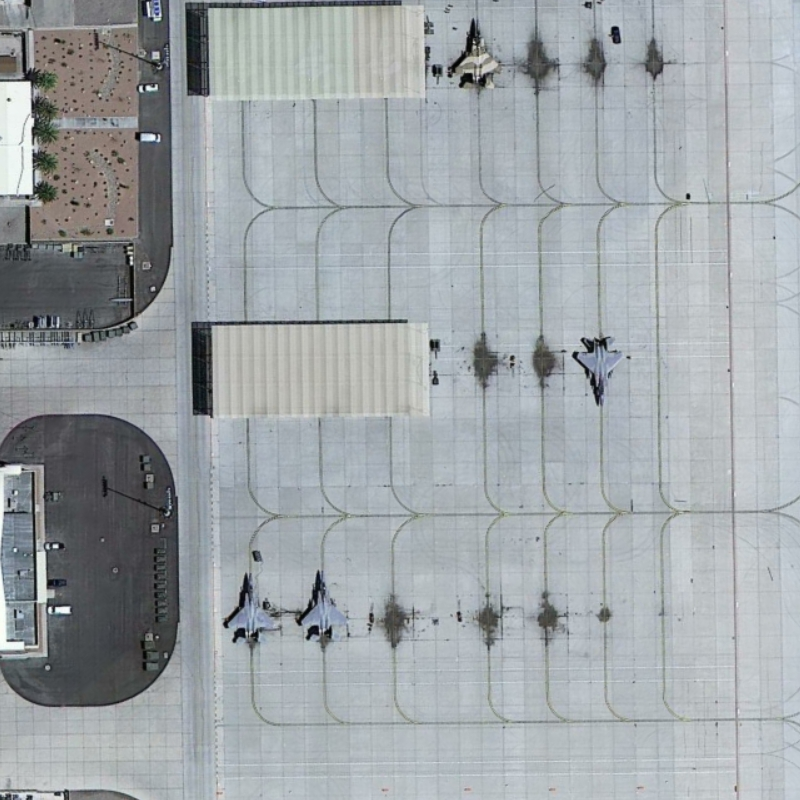A13: (218, 566, 287, 653), (443, 9, 509, 97), (565, 330, 633, 410), (292, 566, 352, 648)
